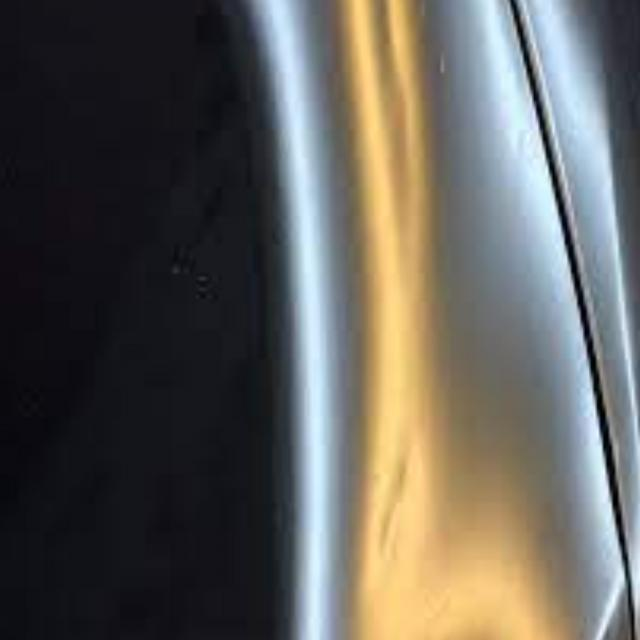dents: (363, 409, 442, 567), (425, 43, 461, 89), (414, 1, 442, 25)
